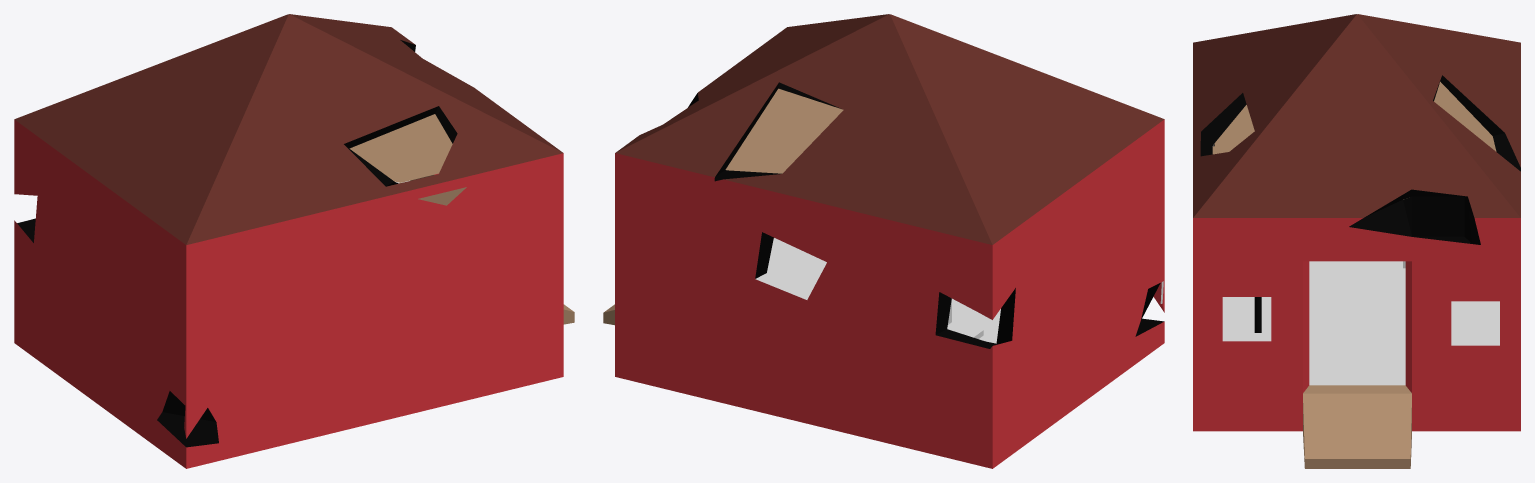
File: house.fbx
The picture shows the model from 3 angles, left to right: view 1: azimuth 30°, elevation 25°; view 2: azimuth 150°, elevation 25°; view 3: azimuth 270°, elevation 25°; orthographic projection. The views are drawn at different scales.
Visible parts, largest first — view 1: house; view 2: house; view 3: house.
Boxes of the visible parts, bbox=[...] form: house: bbox=[14, 14, 574, 468]; house: bbox=[603, 14, 1164, 468]; house: bbox=[1193, 14, 1520, 468].
Size of the model in its own units: 2369 by 1778 by 1579.
